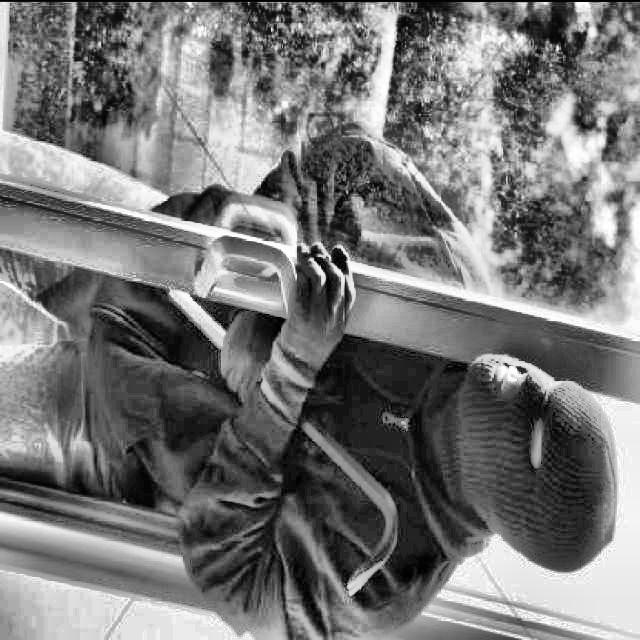robbery: (0, 112, 630, 624)
